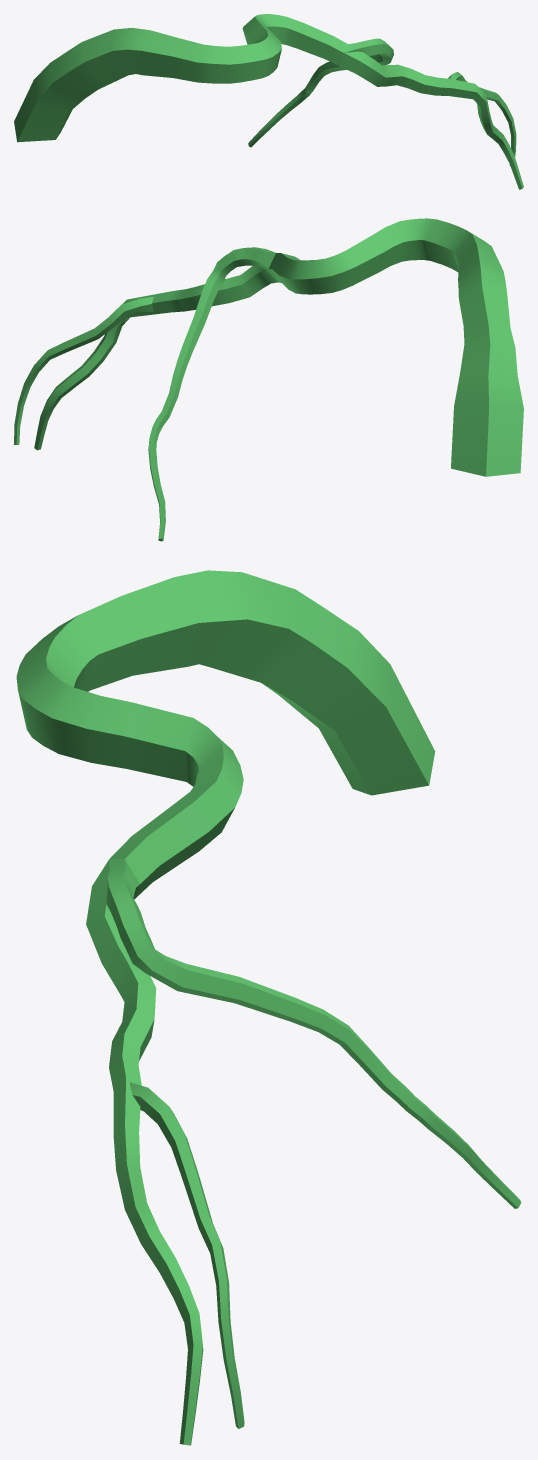
File: roots_solo_C_A.fbx
3 views of the same model, one above another, from view 1: azimuth 30°, elevation 25°; view 2: azimuth 150°, elevation 25°; view 3: azimuth 270°, elevation 25° (orthographic). The views are drawn at different scales.
Visible parts, largest first — view 1: roots_solo_C_A; view 2: roots_solo_C_A; view 3: roots_solo_C_A.
Part boxes in pixels (x1,y1,x2,y2): roots_solo_C_A: (14, 14, 523, 189); roots_solo_C_A: (14, 218, 523, 541); roots_solo_C_A: (16, 570, 521, 1445).
Bounding box in the file's own units: 451 × 234 × 212.
